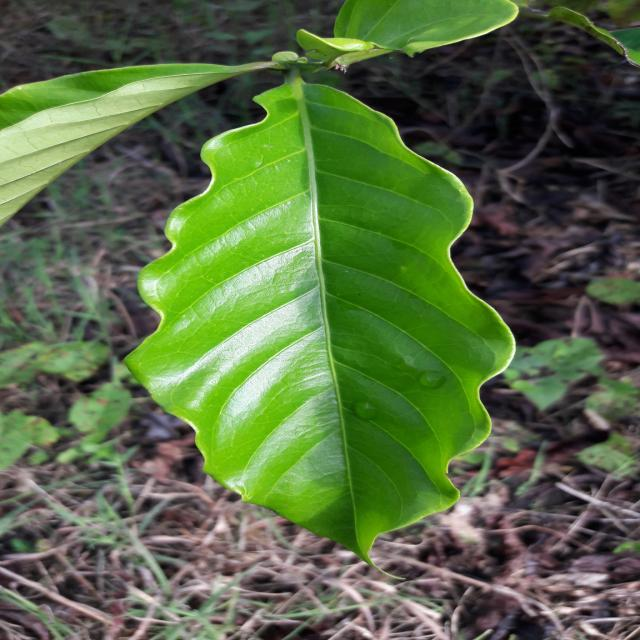Sanas: (122, 76, 517, 562)
